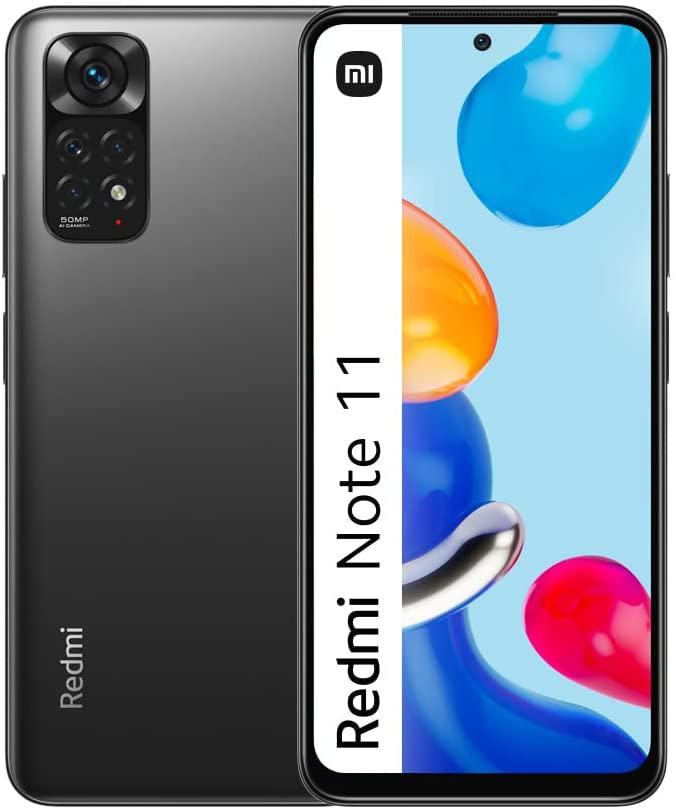Smartphone: (293, 16, 663, 779), (23, 21, 293, 803)
